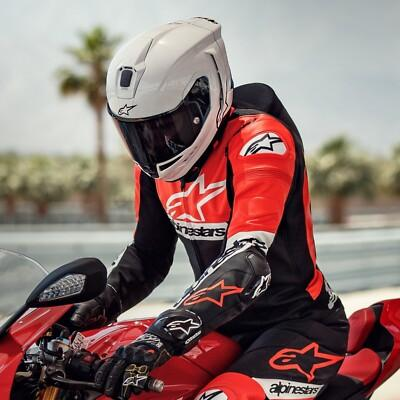Helmet: (107, 17, 233, 180)
